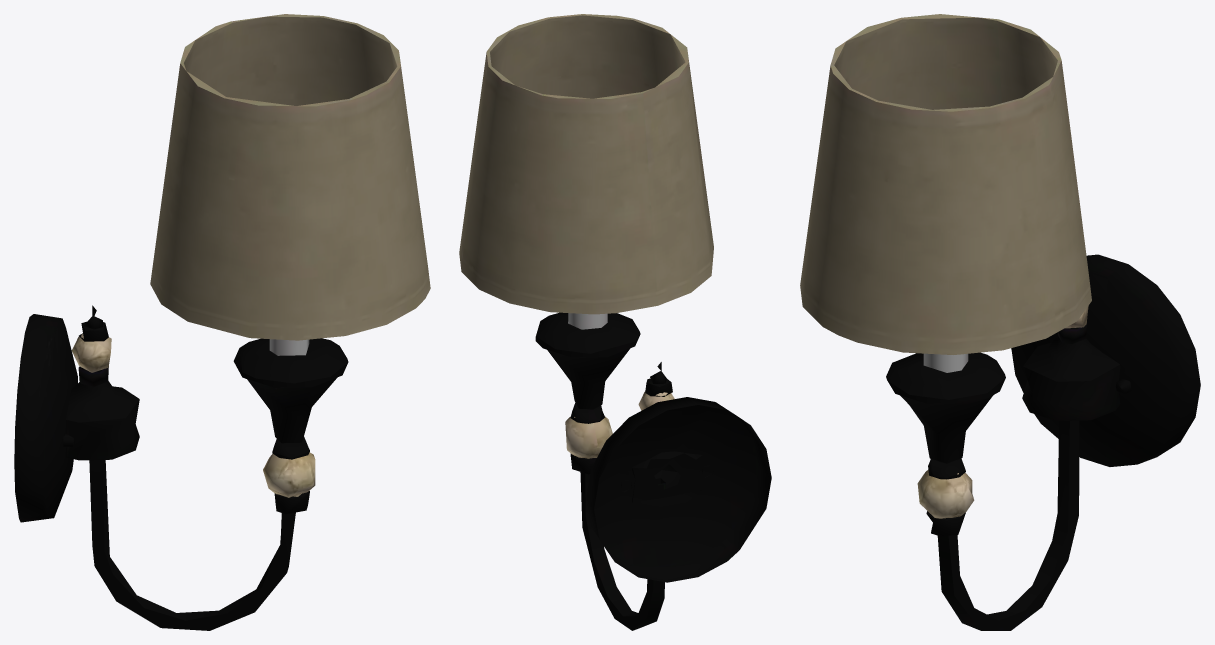
The picture shows the model from 3 angles, left to right: view 1: azimuth 30°, elevation 25°; view 2: azimuth 150°, elevation 25°; view 3: azimuth 270°, elevation 25°; orthographic projection. The views are drawn at different scales.
Visible parts, largest first — view 1: Bistro_Research_Interior_Paris_Wall_Light_Interior_04_3274; view 2: Bistro_Research_Interior_Paris_Wall_Light_Interior_04_3274; view 3: Bistro_Research_Interior_Paris_Wall_Light_Interior_04_3274.
Boxes of the visible parts, bbox=[...] form: Bistro_Research_Interior_Paris_Wall_Light_Interior_04_3274: bbox=[14, 14, 430, 630]; Bistro_Research_Interior_Paris_Wall_Light_Interior_04_3274: bbox=[459, 14, 771, 630]; Bistro_Research_Interior_Paris_Wall_Light_Interior_04_3274: bbox=[800, 14, 1200, 630].
Bounding box in the file's own units: 0.3251 × 0.4945 × 0.3.
Materials: 2 (2 with a texture image).
